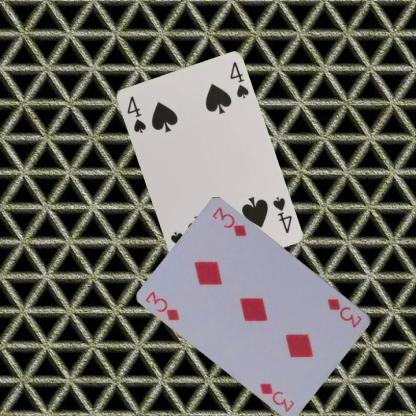3d: (325, 296, 363, 330), (143, 288, 181, 322)
4s: (124, 93, 147, 134), (270, 193, 293, 234)
